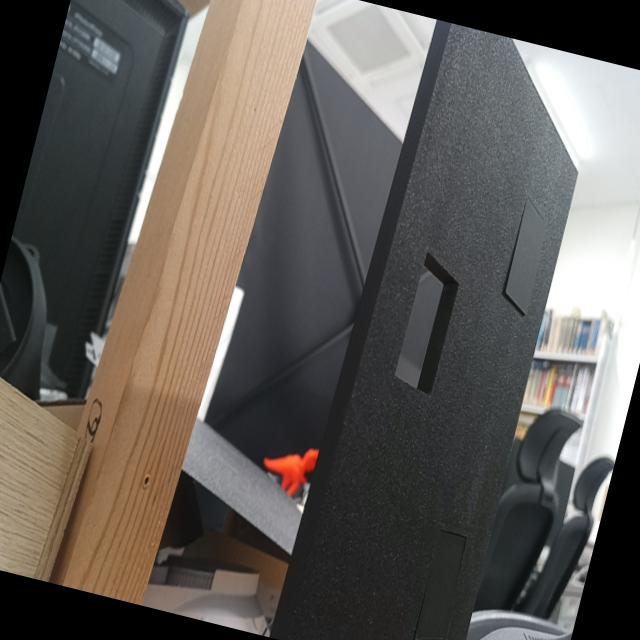Obstacle: (395, 252, 460, 395)
Wall: (287, 23, 577, 640)
